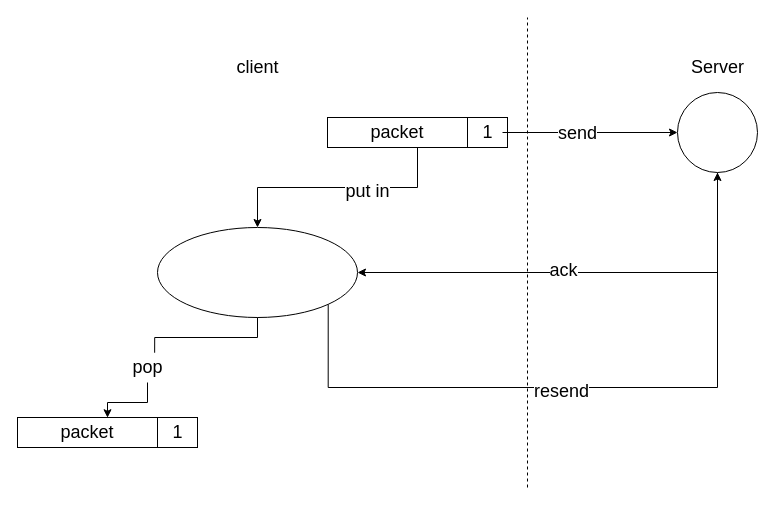
Image size: 775x506. Some labels were removed from this diagram. The shapes that lost their labels are listed below. From the top down, each one's centre as x and y in pixels, then its label:
At (x=717, y=132): "Gate".
At (x=257, y=272): "cache".
